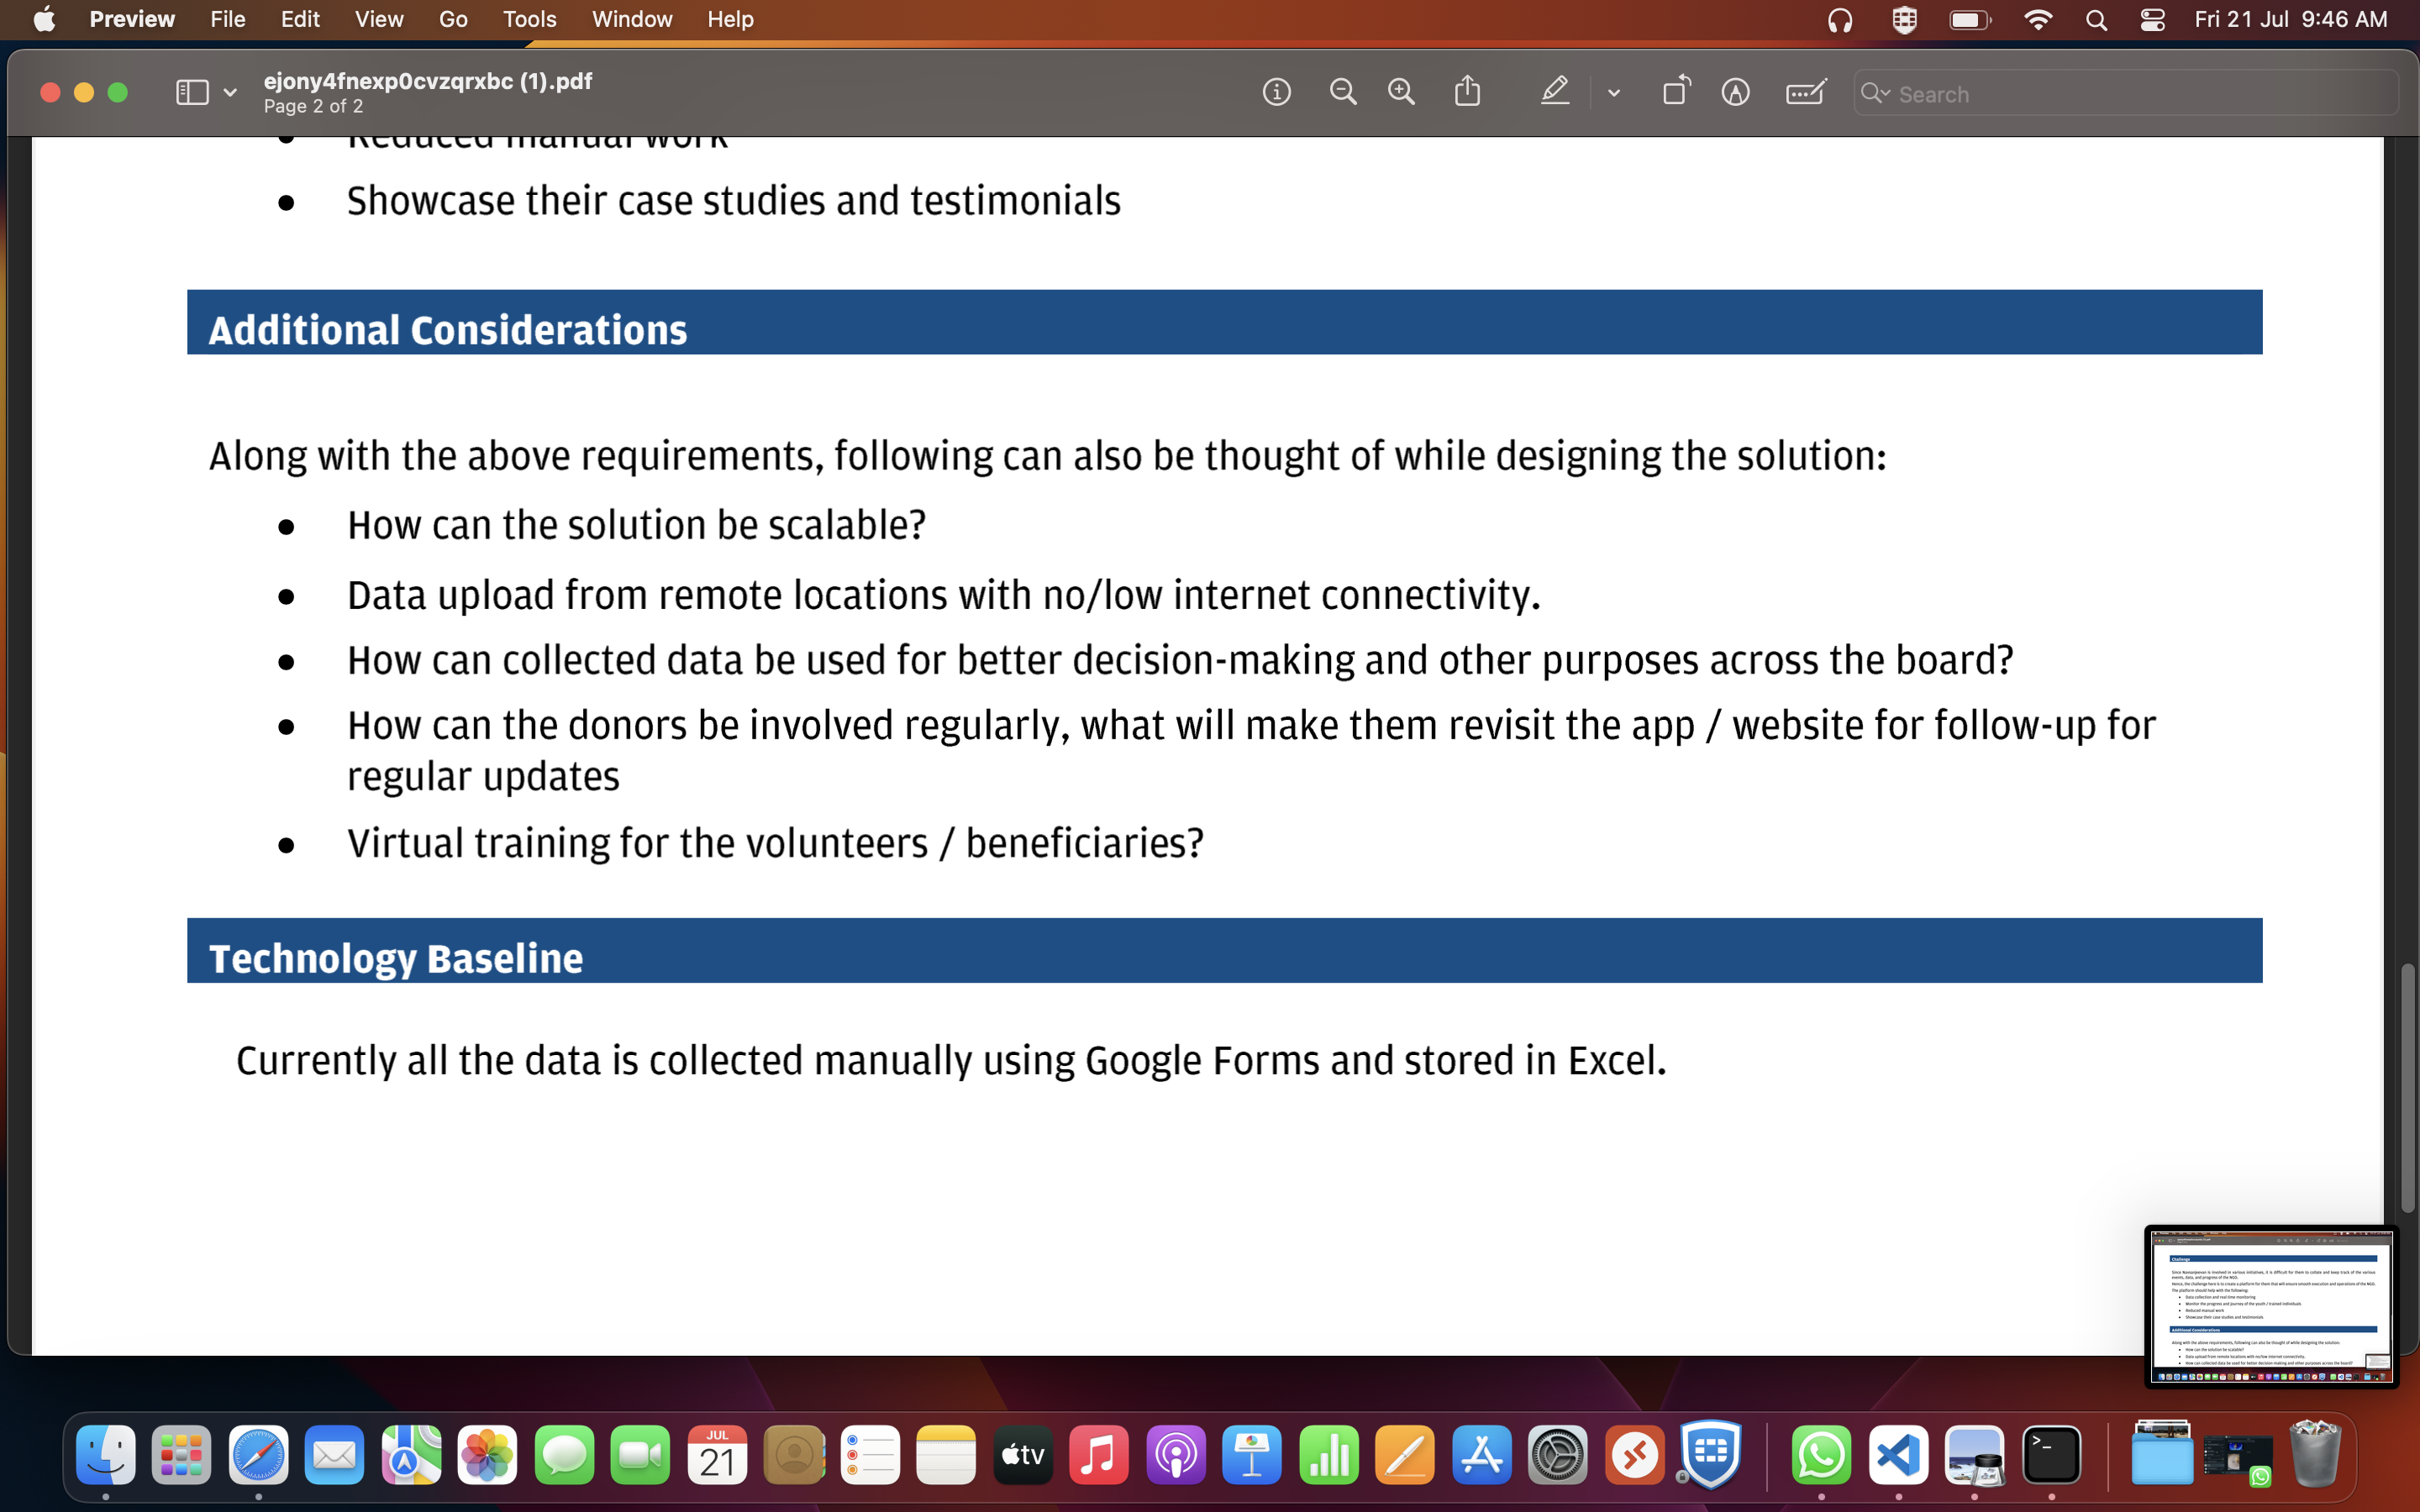Paragraph: (336, 689, 2168, 802), (188, 428, 1924, 491), (223, 1028, 1674, 1094), (339, 631, 2030, 685), (329, 565, 1578, 621), (343, 812, 1214, 874), (336, 171, 1180, 229), (336, 504, 957, 555), (192, 919, 600, 980), (206, 305, 713, 353)
